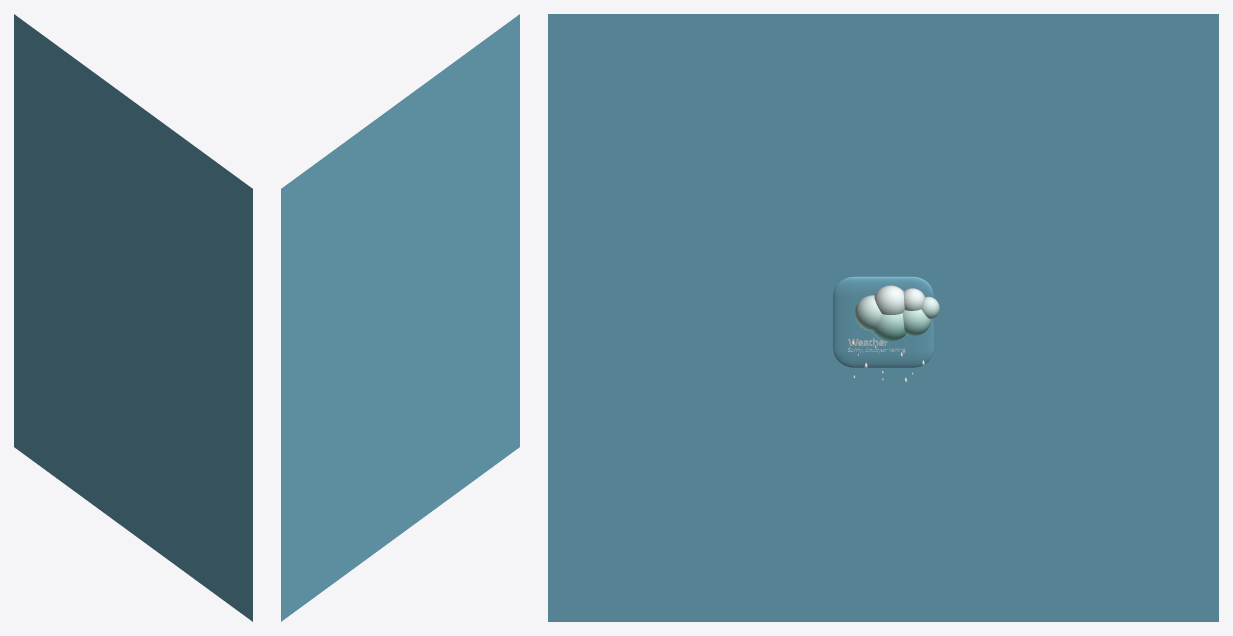
The model's file is icon.glb.
3 renders of one model, left to right at view 1: azimuth 30°, elevation 25°; view 2: azimuth 150°, elevation 25°; view 3: azimuth 270°, elevation 25°, orthographic. The views are drawn at different scales.
Visible parts, largest first — view 1: Object_7; view 2: Object_7; view 3: Object_7, Object_2, Object_3.
Boxes of the visible parts, left/top/right/bottom form: Object_7: left=14, top=14, right=252, bottom=621; Object_7: left=281, top=14, right=519, bottom=621; Object_7: left=548, top=14, right=1218, bottom=621; Object_2: left=872, top=285, right=931, bottom=341; Object_3: left=855, top=295, right=939, bottom=331.
Size of the model in its own units: 171 by 1606 by 1606.
Materials: 4 (1 with a texture image).
